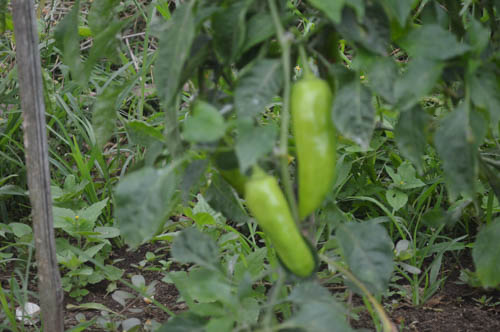ChiliPepper: (245, 176, 315, 283), (290, 79, 338, 229)
